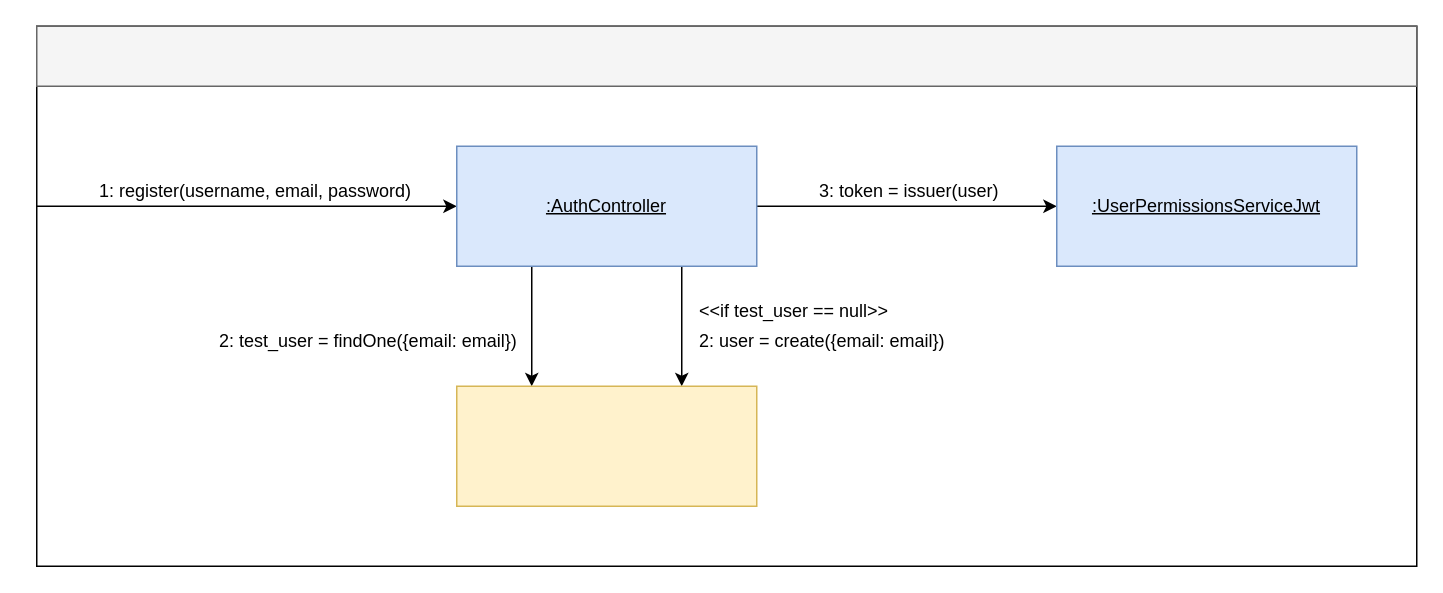
Some shapes in this 1443 by 593 pixel diagram are drawn without their labels. Here are the shapes that lost their labels. From the top down, the centre of each, then its label:
(x=726, y=55): Logical View - Create a T721 Account - CO1
(x=606, y=445): StrapiQuery
